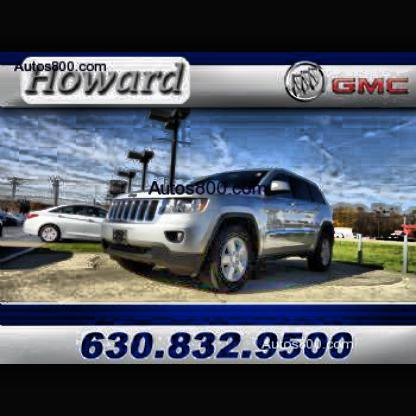Jeep Grand Cherokee SUV 2012: (104, 173, 338, 298)
